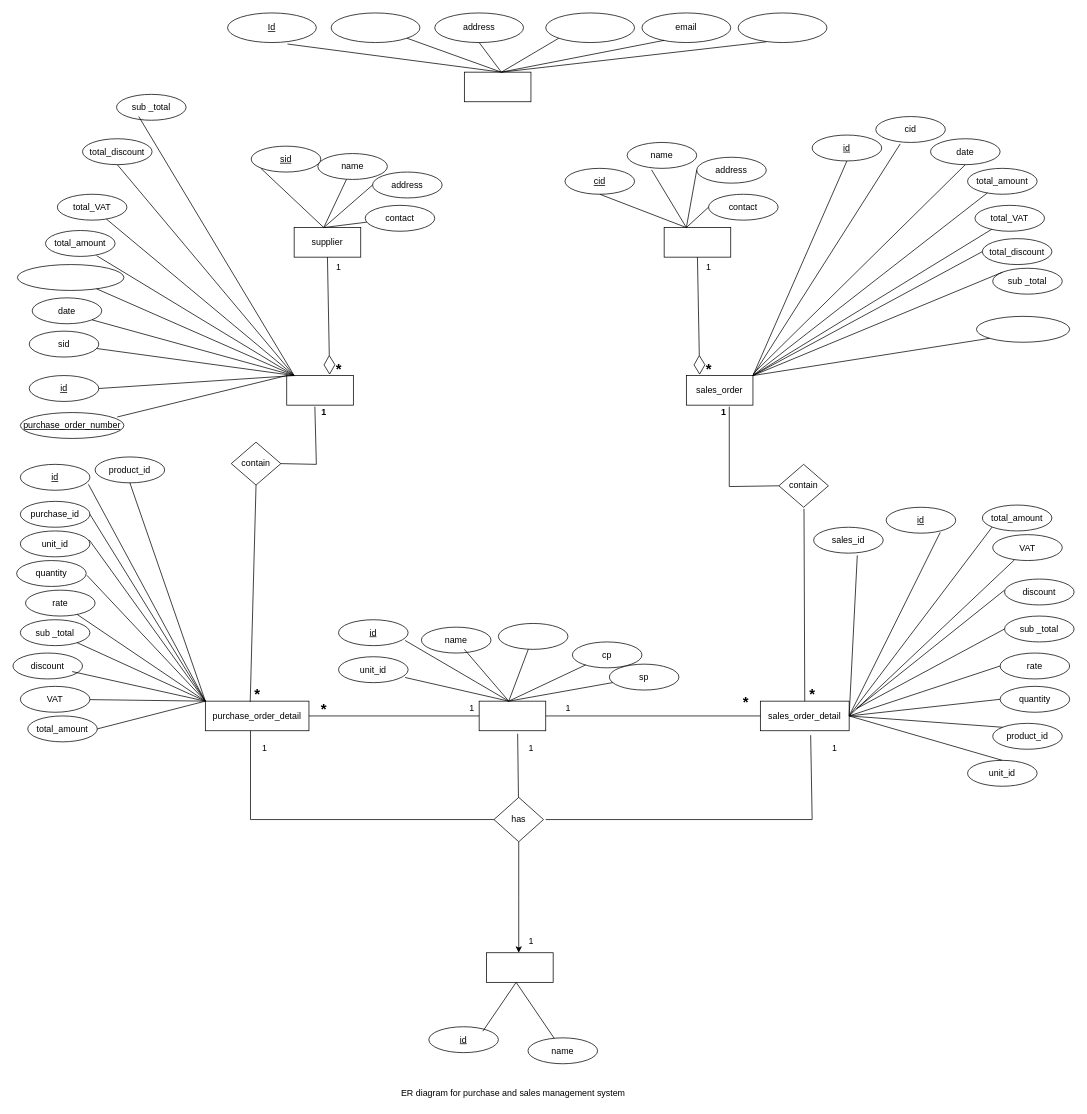
The diagram is 1087 pixels wide and 1114 high, and some of its shapes have lost their labels. The centre of each missing label's shape, as x and y in pixels:
"contact_number" goes at (x=590, y=27).
"customers" goes at (x=697, y=242).
"description" goes at (x=533, y=636).
"expected_delivery_Date" goes at (x=70, y=277).
"password" goes at (x=782, y=27).
"product" goes at (x=512, y=715).
"purchase_order" goes at (x=319, y=390).
"sales_order_number" goes at (x=1023, y=329).
"unit" goes at (x=519, y=967).
"User" goes at (x=497, y=86).
"username" goes at (x=375, y=27).
